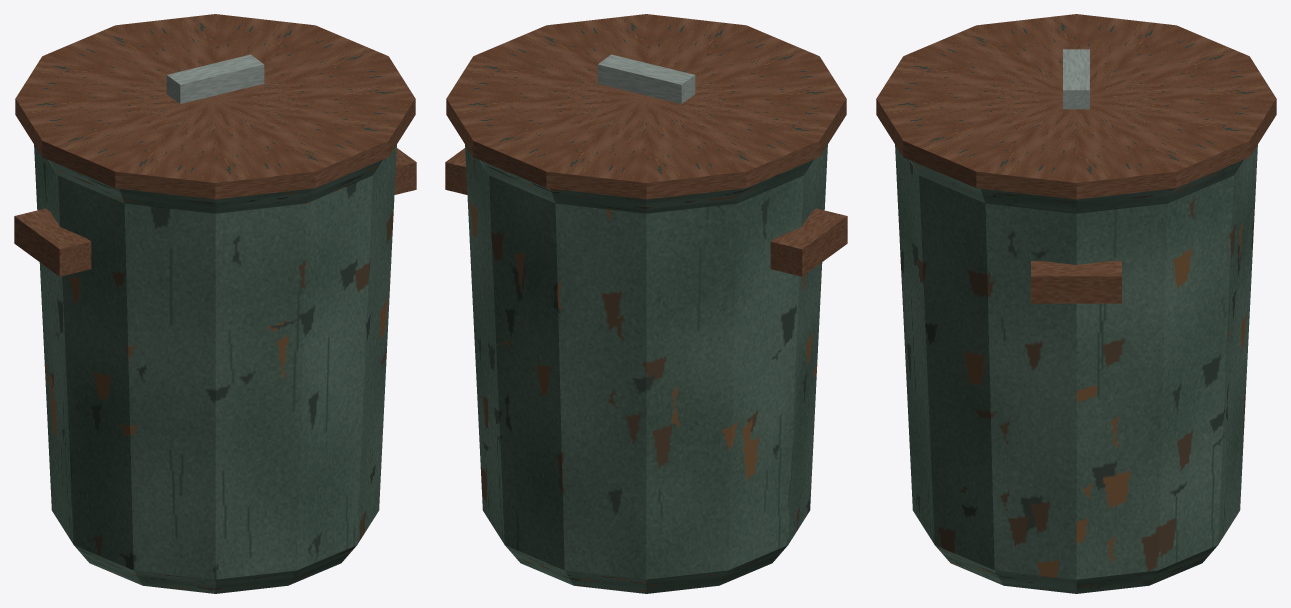
Rendered from TrashBin.obj.
3 views of the same model, side by side, from view 1: azimuth 30°, elevation 25°; view 2: azimuth 150°, elevation 25°; view 3: azimuth 270°, elevation 25° (orthographic).
Visible parts, largest first — view 1: TrashBin; view 2: TrashBin; view 3: TrashBin.
Part boxes in pixels (left/top/right/bottom): TrashBin: left=14, top=14, right=416, bottom=593; TrashBin: left=445, top=14, right=847, bottom=593; TrashBin: left=876, top=14, right=1276, bottom=593.
Size of the model in its own units: 0.68 by 0.8425 by 0.66.
3 materials, 3 textured.
